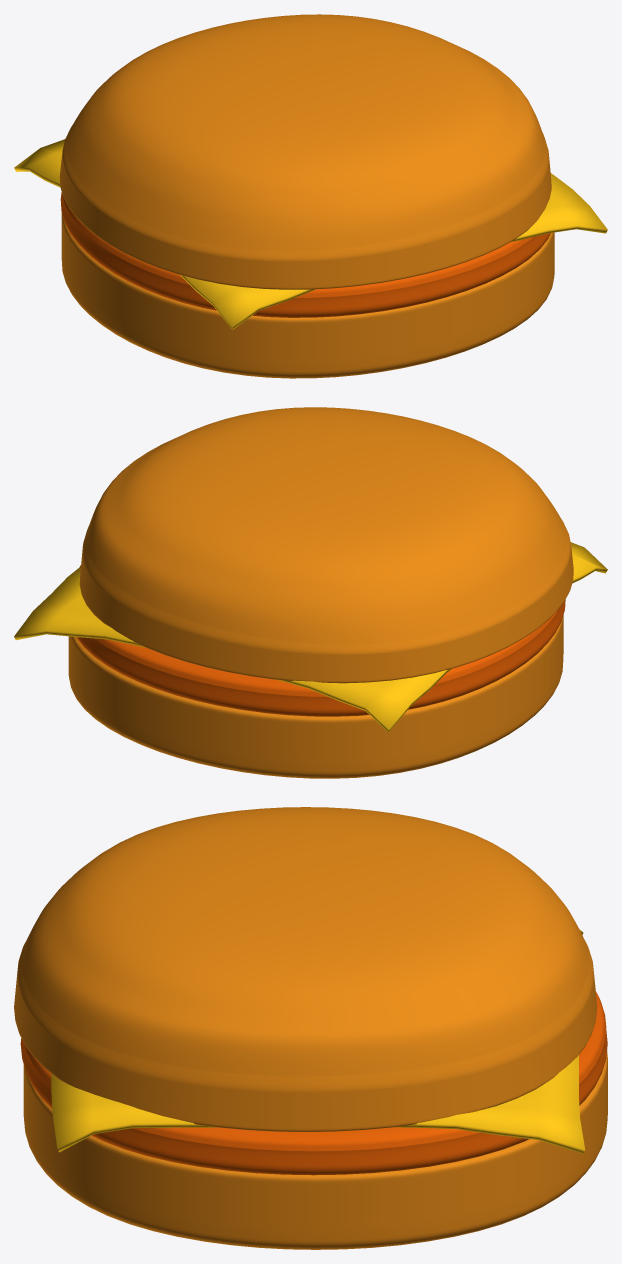
The model's file is hamburger.glb.
3 renders of one model, top to bottom at view 1: azimuth 30°, elevation 25°; view 2: azimuth 150°, elevation 25°; view 3: azimuth 270°, elevation 25°, orthographic. The views are drawn at different scales.
Visible parts, largest first — view 1: Cube.002, Cube, Cube.001, Plane; view 2: Cube.002, Cube, Cube.001, Plane; view 3: Cube.002, Cube, Cube.001, Plane.
Part boxes in pixels (x1,y1,x2,y2): Cube.002: (59,14,551,289); Cube: (61,213,554,378); Cube.001: (60,192,550,317); Plane: (14,139,607,329); Cube.002: (79,407,573,683); Cube: (68,615,563,778); Cube.001: (76,565,565,716); Plane: (14,542,607,732); Cube.002: (14,807,597,1131); Cube: (23,1050,607,1249); Cube.001: (20,991,607,1175); Plane: (51,929,585,1153).
Bounding box in the file's own units: 8.22 × 4.12 × 8.23.
